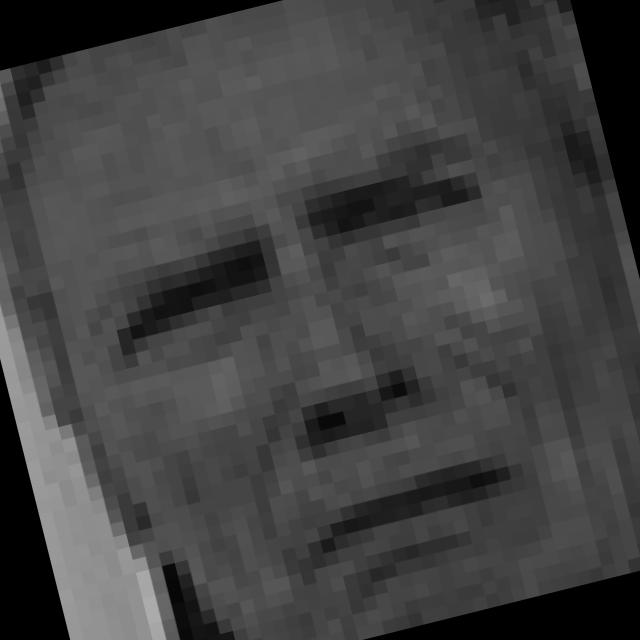disgust: (82, 115, 596, 640)
